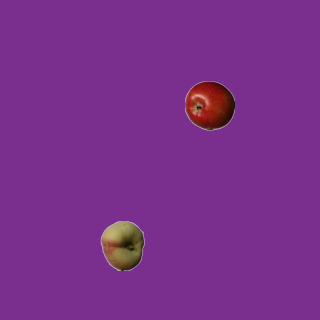Apple Braeburn: (184, 80, 234, 130)
Peach Flat: (97, 220, 147, 270)
